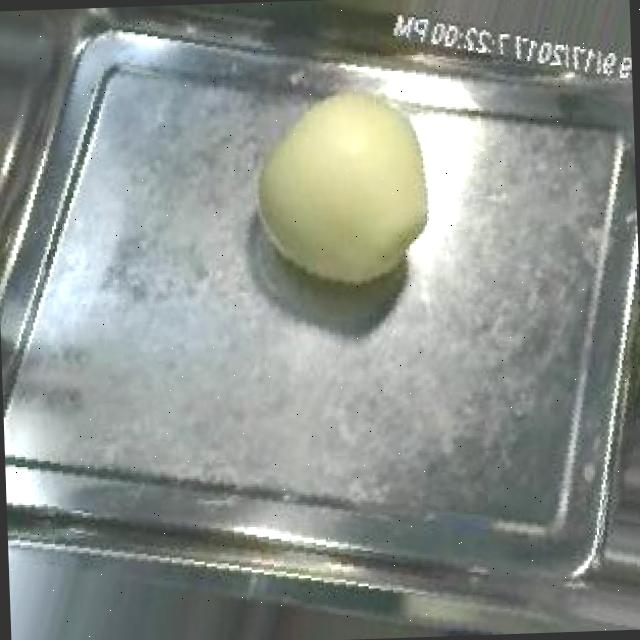apple: (232, 70, 452, 321)
